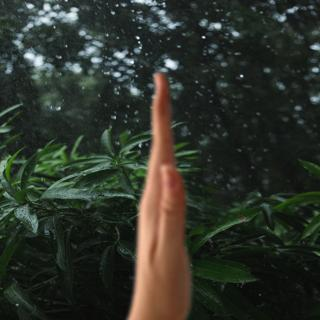Right: (123, 71, 209, 312)
